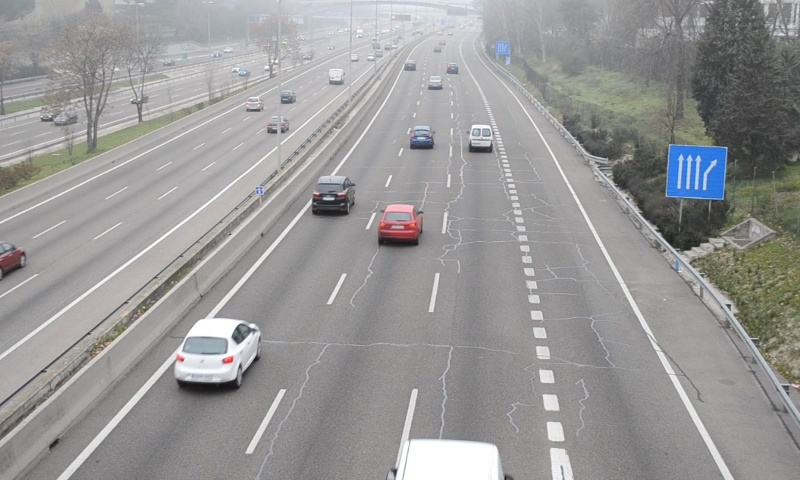car: (173, 318, 260, 384), (312, 176, 354, 214), (379, 204, 421, 241), (410, 126, 434, 149), (428, 75, 443, 90)
van: (468, 124, 494, 151)
